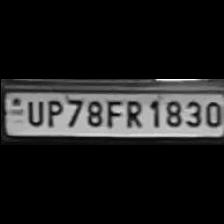0: (201, 98, 221, 124)
1: (144, 96, 162, 128)
3: (182, 96, 202, 128)
7: (61, 95, 80, 127)
8: (81, 96, 103, 128), (160, 96, 182, 128)
F: (104, 96, 122, 128)
P: (42, 96, 62, 126)
R: (120, 96, 144, 128)
U: (22, 96, 44, 126)
